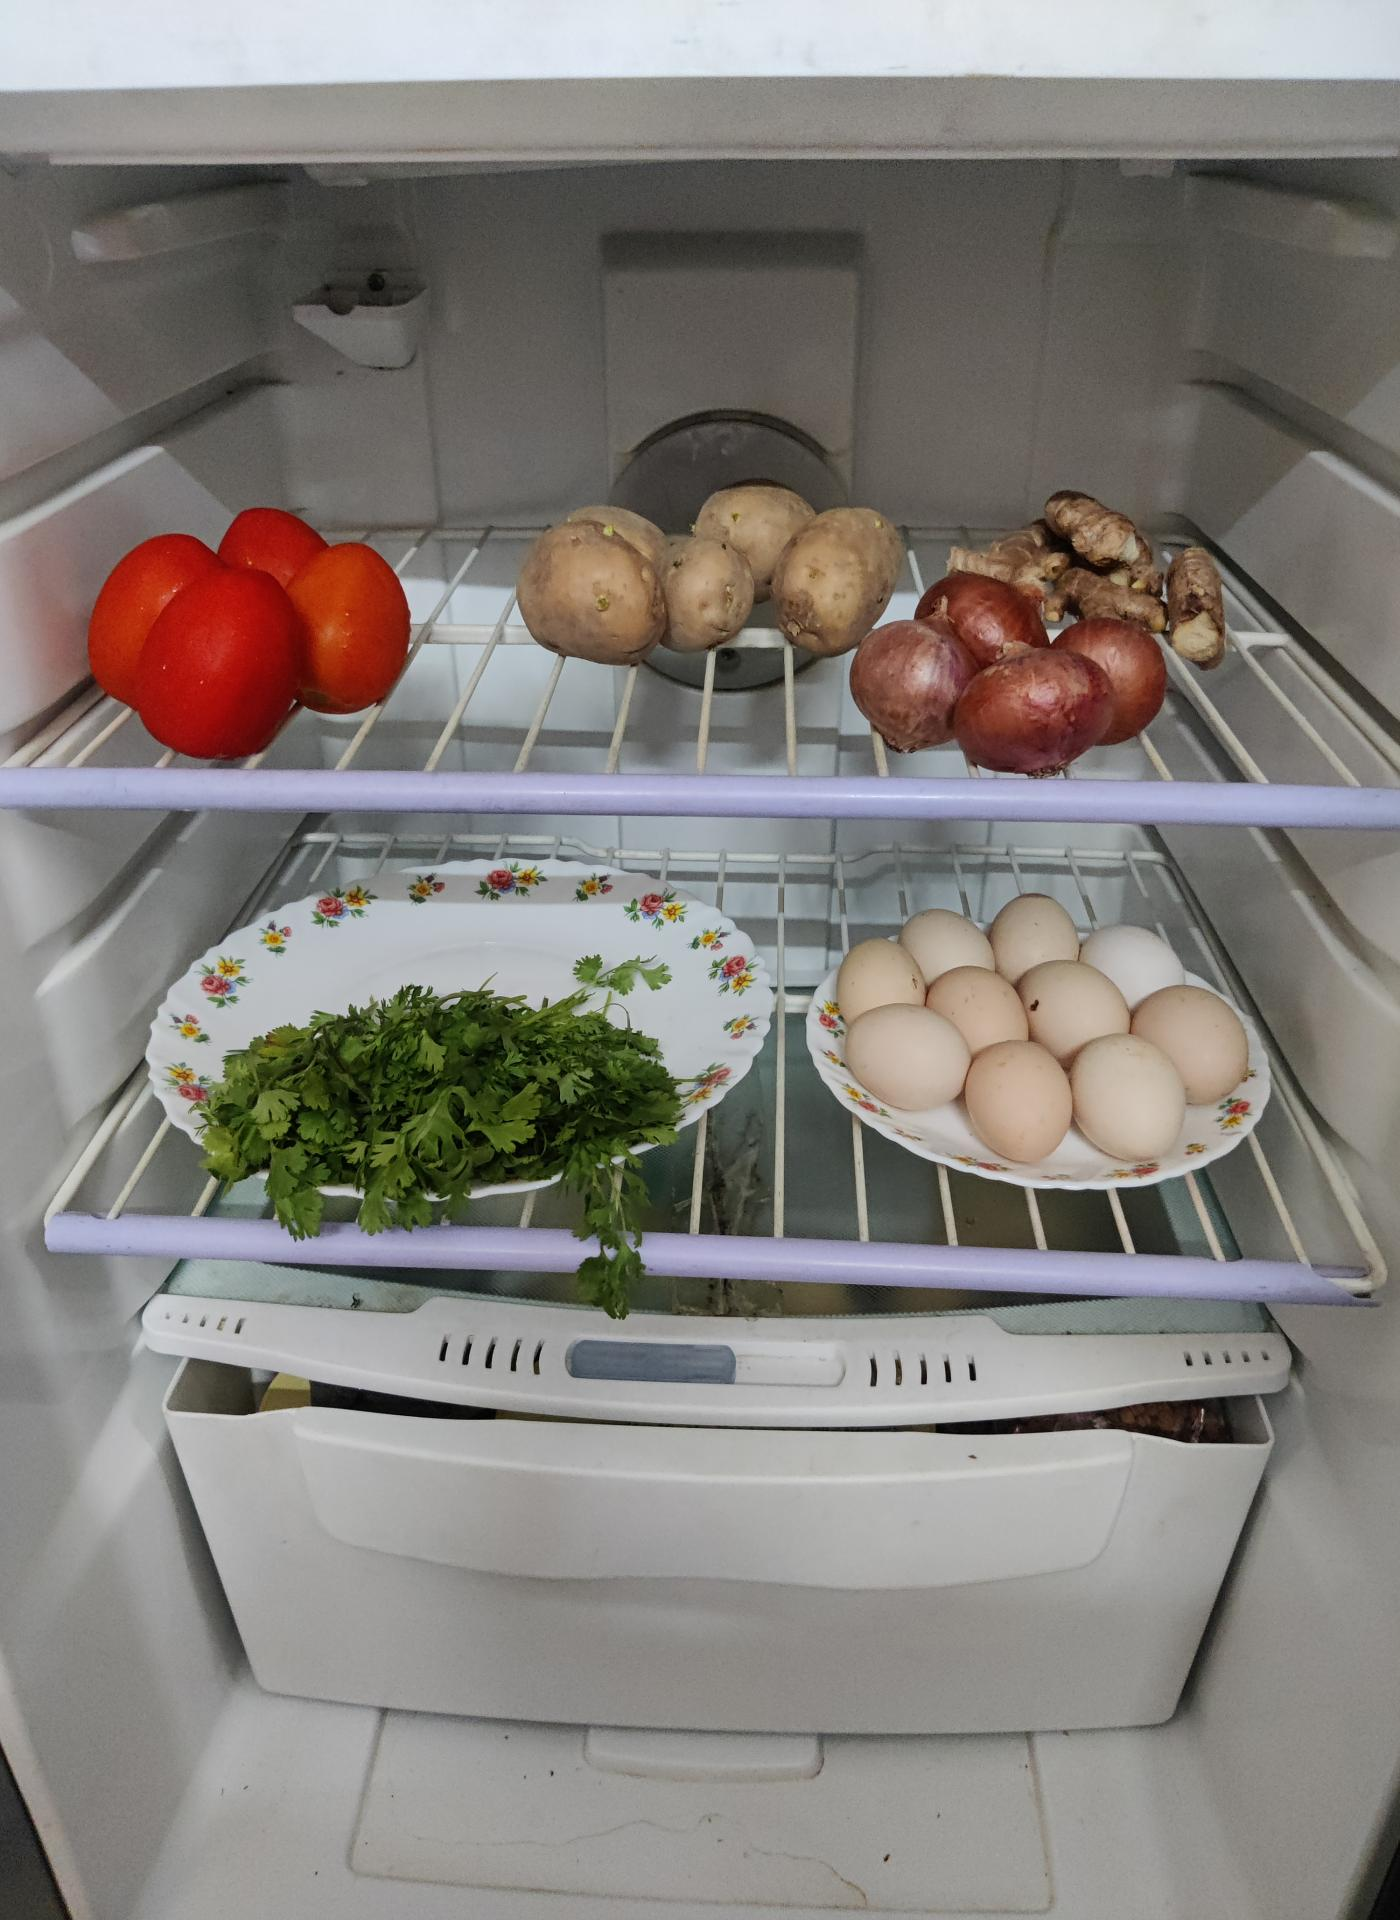coriander: (195, 985, 687, 1224)
egg: (814, 911, 1251, 1184)
ginger: (927, 492, 1237, 634)
onion: (865, 572, 1209, 762)
potato: (522, 486, 920, 671)
tomato: (92, 504, 417, 756)
